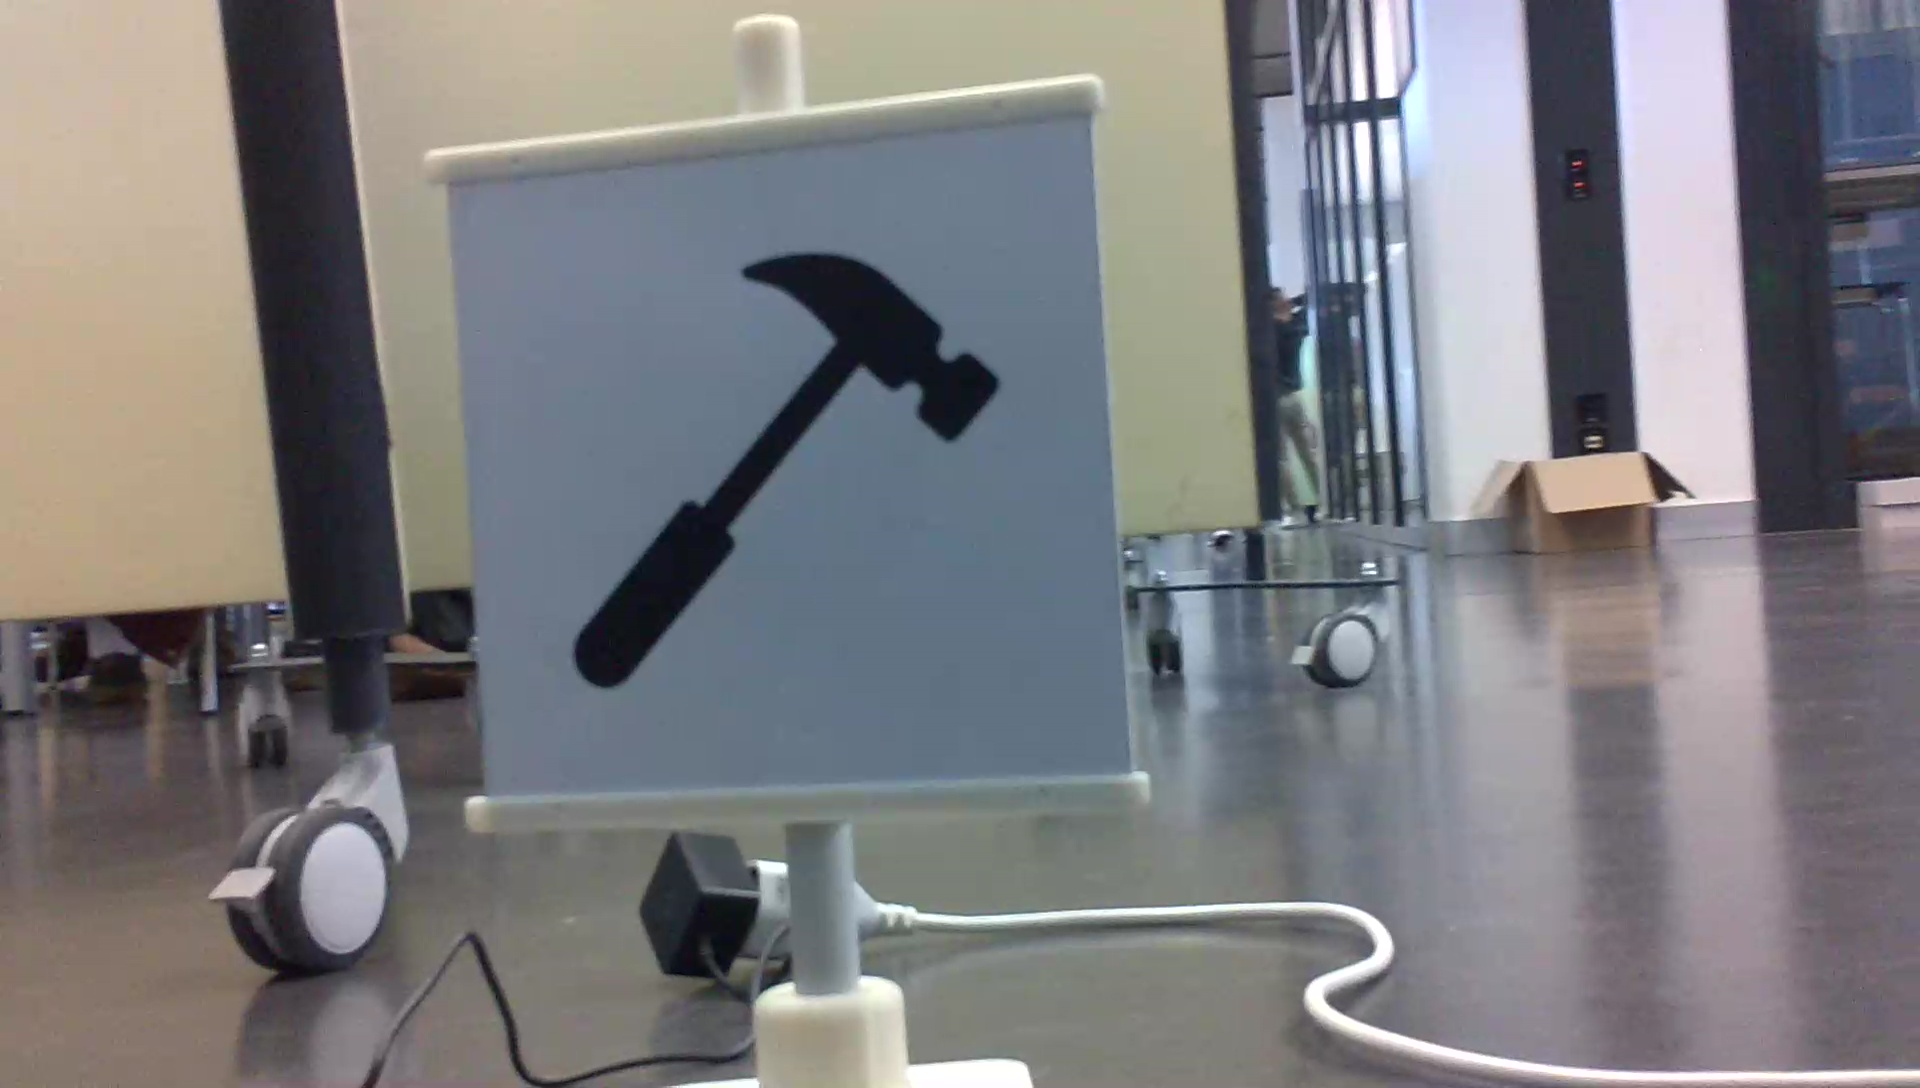hammer: (558, 232, 1018, 706)
